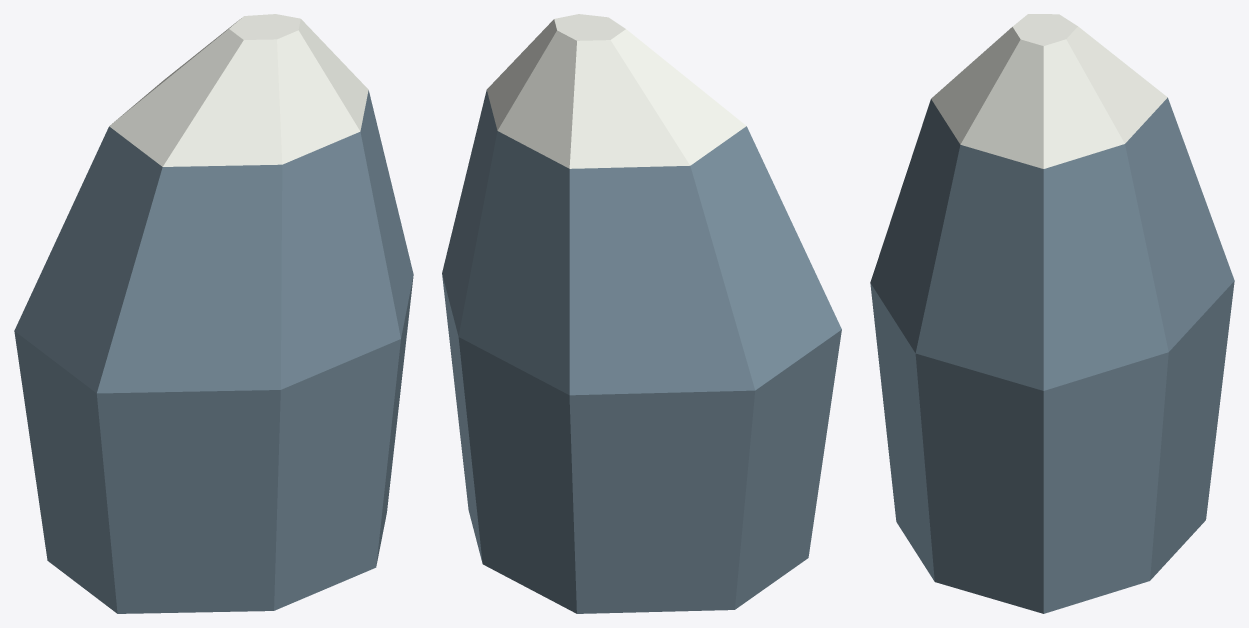
File: cloud-boulder.glb
3 views of the same model, side by side, from view 1: azimuth 30°, elevation 25°; view 2: azimuth 150°, elevation 25°; view 3: azimuth 270°, elevation 25° (orthographic). The views are drawn at different scales.
Visible parts, largest first — view 1: cloud-boulder; view 2: cloud-boulder; view 3: cloud-boulder.
Boxes of the visible parts, left/top/right/bottom form: cloud-boulder: left=14, top=14, right=413, bottom=613; cloud-boulder: left=442, top=14, right=841, bottom=613; cloud-boulder: left=870, top=14, right=1234, bottom=613.
Size of the model in its own units: 2.48 by 3.4 by 2.14.
